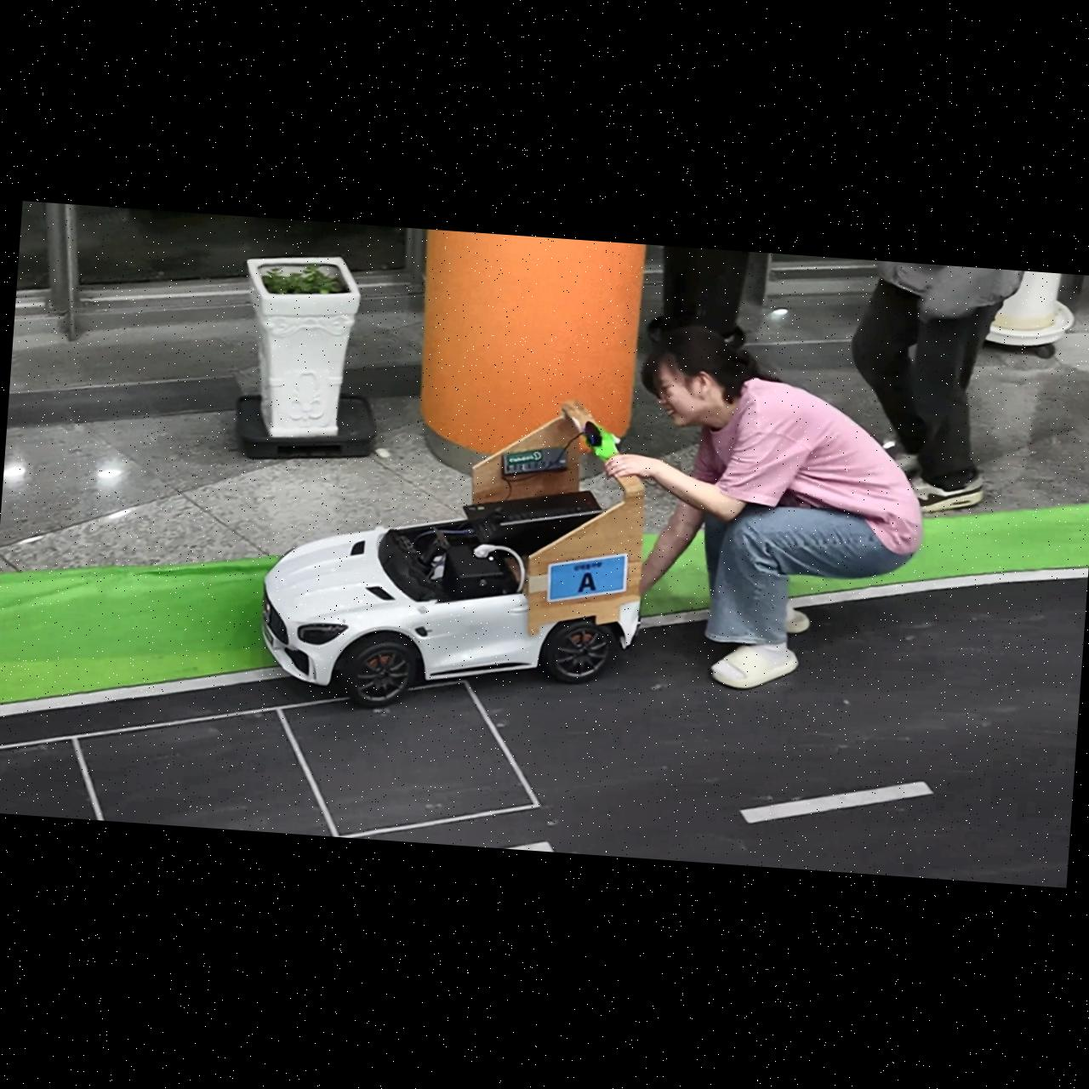broken_line: (739, 781, 934, 824), (504, 841, 554, 852)
